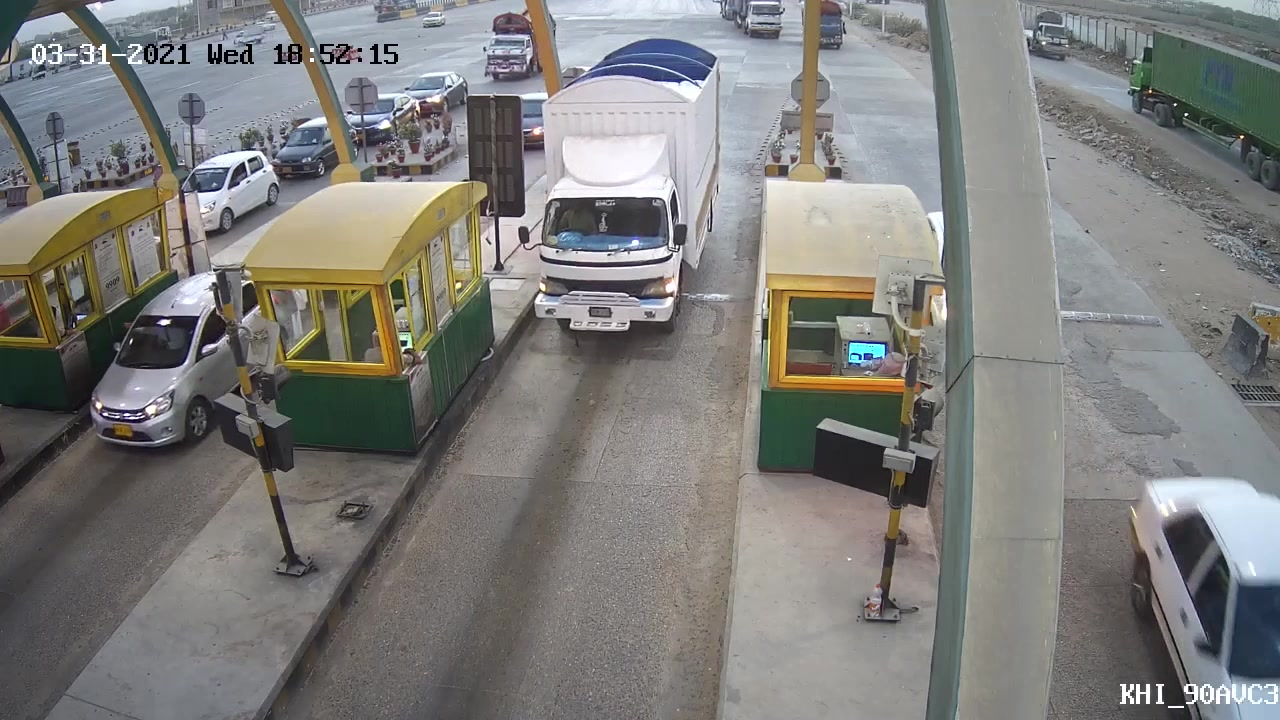F5: (514, 38, 725, 342)
